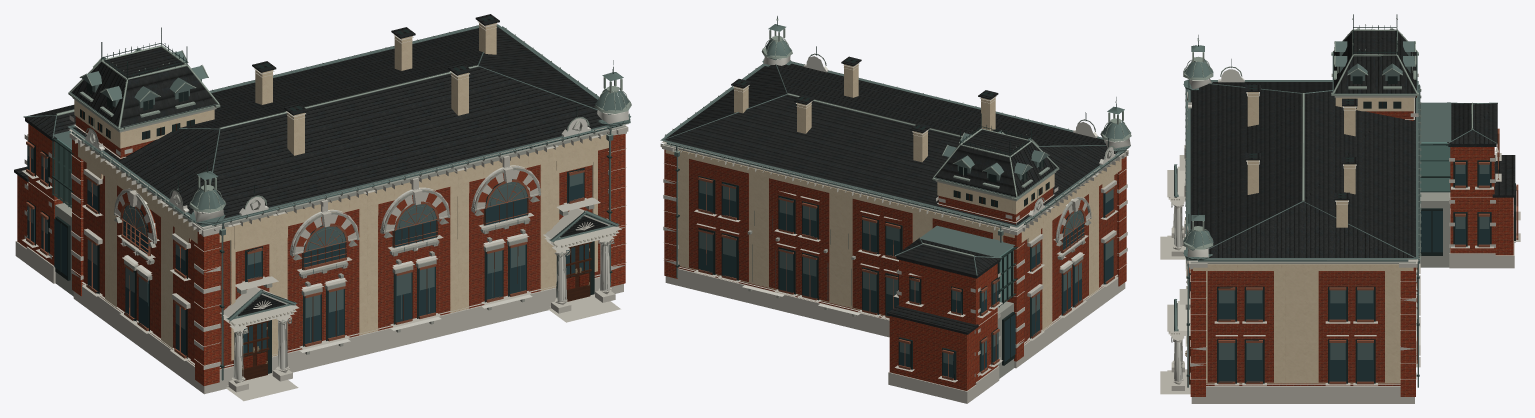
Rendered from desk-karatsu-bank.glb.
3 renders of one model, left to right at view 1: azimuth 30°, elevation 25°; view 2: azimuth 150°, elevation 25°; view 3: azimuth 270°, elevation 25°, orthographic. The views are drawn at different scales.
Visible parts, largest first — view 1: 旧唐津銀行 · Slate 454b49, 旧唐津銀行 · Plaster f0e9d7, 旧唐津銀行 · Finish c3bfb3, 旧唐津銀行 · Brick 9c553b, 旧唐津銀行 · Brick af6646, 旧唐津銀行 · Finish 263d41, 旧唐津銀行 · Finish 596b66, 旧唐津銀行 · Finish 9d9e94, 旧唐津銀行 · Finish 526563, 旧唐津銀行 · Finish 854e38, 旧唐津銀行 · Finish d8d6cb, 旧唐津銀行 · Finish 1c2826 (+4 smaller); view 2: 旧唐津銀行 · Slate 454b49, 旧唐津銀行 · Brick 9c553b, 旧唐津銀行 · Plaster f0e9d7, 旧唐津銀行 · Brick af6646, 旧唐津銀行 · Finish c3bfb3, 旧唐津銀行 · Finish 596b66, 旧唐津銀行 · Finish 263d41, 旧唐津銀行 · Finish 1c2826, 旧唐津銀行 · Finish 526563, 旧唐津銀行 · Finish 854e38, 旧唐津銀行 · Finish 9d9e94, 旧唐津銀行 · Finish 89968a (+3 smaller); view 3: 旧唐津銀行 · Slate 454b49, 旧唐津銀行 · Plaster f0e9d7, 旧唐津銀行 · Finish c3bfb3, 旧唐津銀行 · Brick 9c553b, 旧唐津銀行 · Brick af6646, 旧唐津銀行 · Finish 596b66, 旧唐津銀行 · Finish 263d41, 旧唐津銀行 · Finish 1c2826, 旧唐津銀行 · Finish 9d9e94, 旧唐津銀行 · Finish 89968a, 旧唐津銀行 · Finish 526563, 旧唐津銀行 · Finish 854e38 (+3 smaller).
Boxes of the visible parts, <box> form: 旧唐津銀行 · Slate 454b49: <box>14,14,608,316</box>; 旧唐津銀行 · Plaster f0e9d7: <box>74,22,608,360</box>; 旧唐津銀行 · Finish c3bfb3: <box>15,21,628,401</box>; 旧唐津銀行 · Brick 9c553b: <box>75,116,608,369</box>; 旧唐津銀行 · Brick af6646: <box>17,124,625,385</box>; 旧唐津銀行 · Finish 263d41: <box>27,145,588,356</box>; 旧唐津銀行 · Finish 596b66: <box>23,24,630,380</box>; 旧唐津銀行 · Finish 9d9e94: <box>55,97,625,378</box>; 旧唐津銀行 · Finish 526563: <box>27,146,583,341</box>; 旧唐津銀行 · Finish 854e38: <box>26,141,584,358</box>; 旧唐津銀行 · Finish d8d6cb: <box>85,110,628,380</box>; 旧唐津銀行 · Finish 1c2826: <box>27,16,594,373</box>; 旧唐津銀行 · Slate 454b49: <box>664,56,1117,334</box>; 旧唐津銀行 · Brick 9c553b: <box>678,159,1117,344</box>; 旧唐津銀行 · Plaster f0e9d7: <box>665,63,1121,330</box>; 旧唐津銀行 · Brick af6646: <box>664,149,1126,390</box>; 旧唐津銀行 · Finish c3bfb3: <box>660,62,1128,403</box>; 旧唐津銀行 · Finish 596b66: <box>660,24,1130,277</box>; 旧唐津銀行 · Finish 263d41: <box>699,180,1113,378</box>; 旧唐津銀行 · Finish 1c2826: <box>698,58,1104,380</box>; 旧唐津銀行 · Finish 526563: <box>699,180,1113,364</box>; 旧唐津銀行 · Finish 854e38: <box>698,177,1114,380</box>; 旧唐津銀行 · Finish 9d9e94: <box>663,57,1118,378</box>; 旧唐津銀行 · Finish 89968a: <box>665,18,1131,256</box>; 旧唐津銀行 · Slate 454b49: <box>1176,30,1515,325</box>; 旧唐津銀行 · Plaster f0e9d7: <box>1190,92,1416,383</box>; 旧唐津銀行 · Finish c3bfb3: <box>1160,73,1520,403</box>; 旧唐津銀行 · Brick 9c553b: <box>1206,111,1413,385</box>; 旧唐津銀行 · Brick af6646: <box>1190,147,1513,396</box>; 旧唐津銀行 · Finish 596b66: <box>1174,29,1497,387</box>; 旧唐津銀行 · Finish 263d41: <box>1189,164,1516,382</box>; 旧唐津銀行 · Finish 1c2826: <box>1217,76,1515,383</box>; 旧唐津銀行 · Finish 9d9e94: <box>1171,91,1449,380</box>; 旧唐津銀行 · Finish 89968a: <box>1183,18,1473,258</box>; 旧唐津銀行 · Finish 526563: <box>1219,164,1489,359</box>; 旧唐津銀行 · Finish 854e38: <box>1187,128,1518,384</box>.
Size of the model in its own units: 24.54 by 14 by 20.46.
20 materials, 6 textured.
